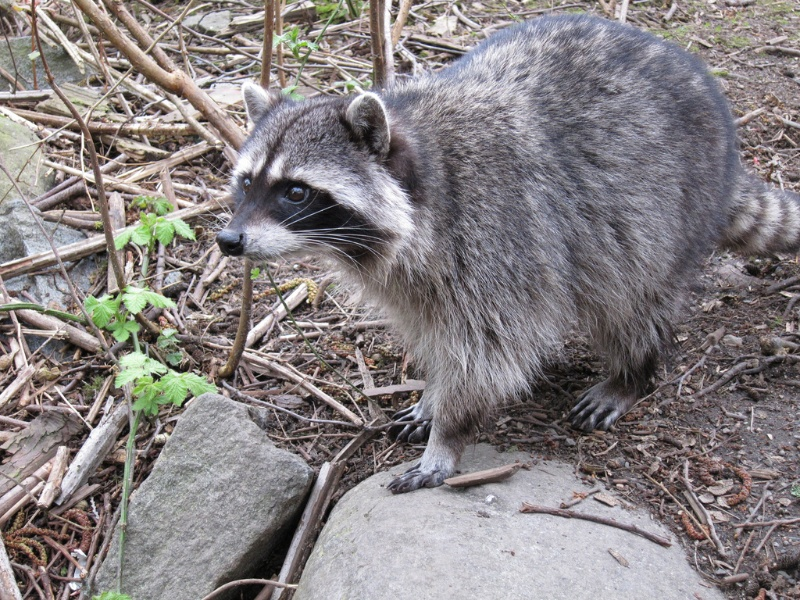raccoon: (200, 12, 793, 491)
